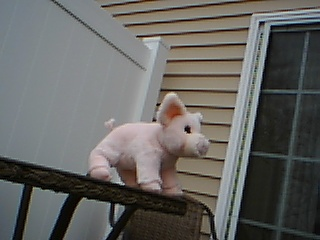piggy: (87, 91, 211, 198)
